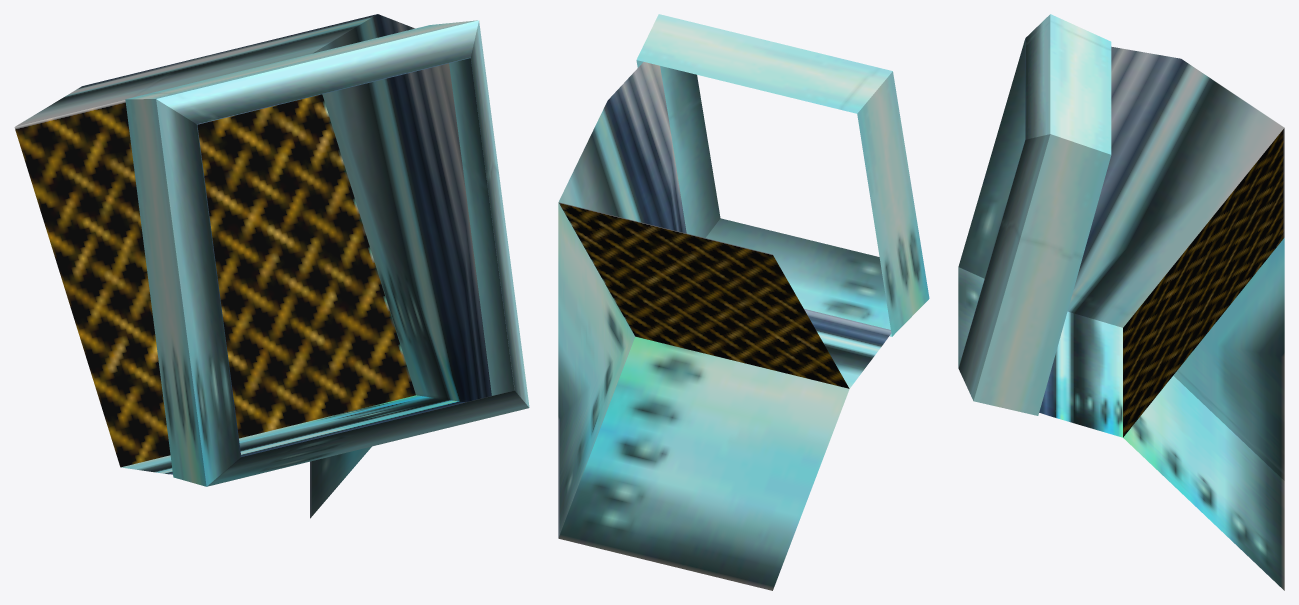
File: Belüftungsanlage_Kasten [Hellblau]_2585.glb
3 renders of one model, left to right at view 1: azimuth 30°, elevation 25°; view 2: azimuth 150°, elevation 25°; view 3: azimuth 270°, elevation 25°, orthographic. The views are drawn at different scales.
Visible parts, largest first — view 1: pPlaneShape2, pTorusShape1, pCylinderShape1; view 2: pCylinderShape1, pTorusShape1, pPlaneShape2; view 3: pCylinderShape1, pTorusShape1, pPlaneShape2.
Part boxes in pixels (<box>): pPlaneShape2: <box>14,94,415,467</box>; pTorusShape1: <box>125,20,529,486</box>; pCylinderShape1: <box>15,14,491,518</box>; pCylinderShape1: <box>558,62,891,590</box>; pTorusShape1: <box>636,14,929,336</box>; pPlaneShape2: <box>558,202,849,388</box>; pCylinderShape1: <box>1039,46,1284,590</box>; pTorusShape1: <box>958,14,1111,415</box>; pPlaneShape2: <box>1123,128,1284,437</box>.
Size of the model in its own units: 0.1937 by 0.348 by 0.2223.
3 materials, 3 textured.
